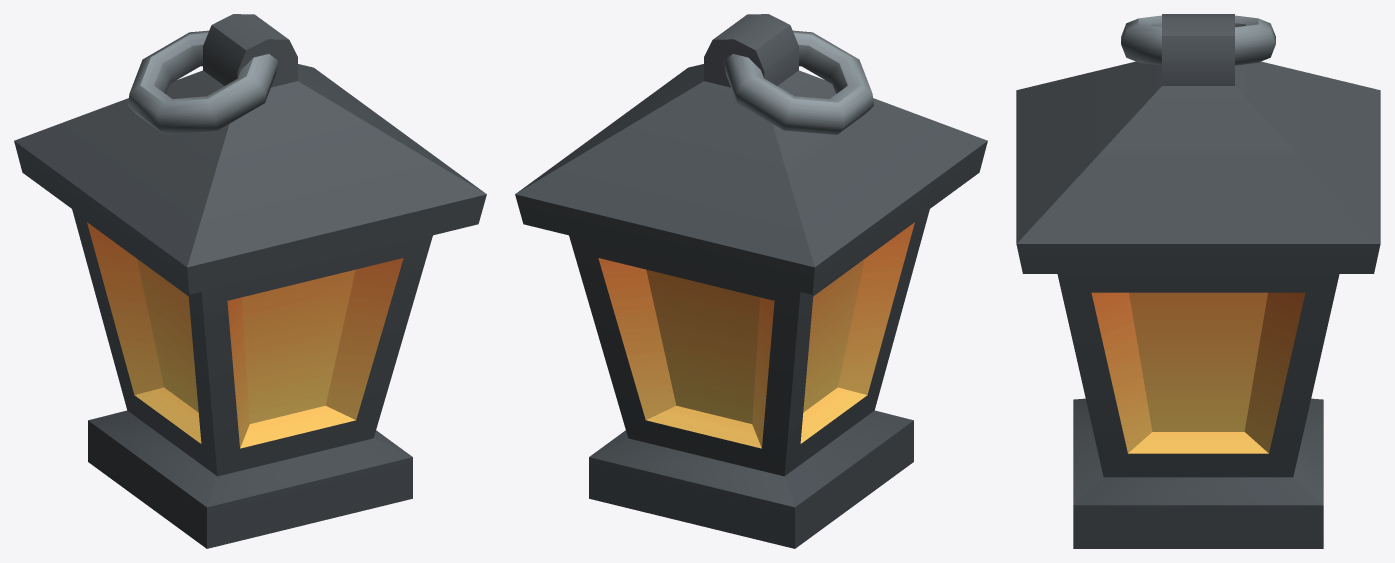
The model's file is lantern_standing.glb.
The picture shows the model from 3 angles, left to right: view 1: azimuth 30°, elevation 25°; view 2: azimuth 150°, elevation 25°; view 3: azimuth 270°, elevation 25°; orthographic projection. The views are drawn at different scales.
Visible parts, largest first — view 1: lantern_standing; view 2: lantern_standing; view 3: lantern_standing.
Boxes of the visible parts, x1=… form: lantern_standing: x1=14, y1=14, x2=486, y2=548; lantern_standing: x1=515, y1=14, x2=987, y2=548; lantern_standing: x1=1016, y1=14, x2=1380, y2=548.
Size of the model in its own units: 0.64 by 0.9252 by 0.64.
Materials: 1 (1 with a texture image).
